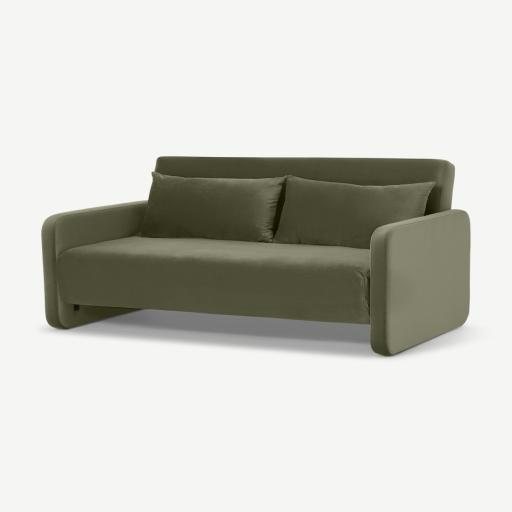back_cushion: (140, 172, 433, 248)
left_arm: (371, 210, 470, 355)
right_arm: (42, 202, 146, 328)
seat_cushion: (58, 237, 369, 323)
two-seater: (0, 0, 511, 512)
